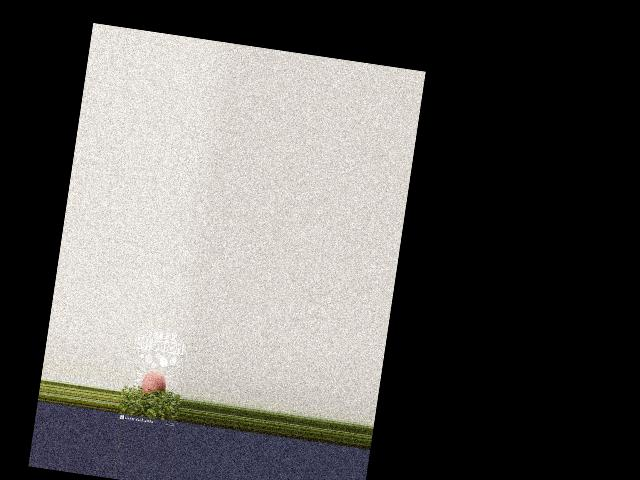egg: (141, 368, 169, 395)
